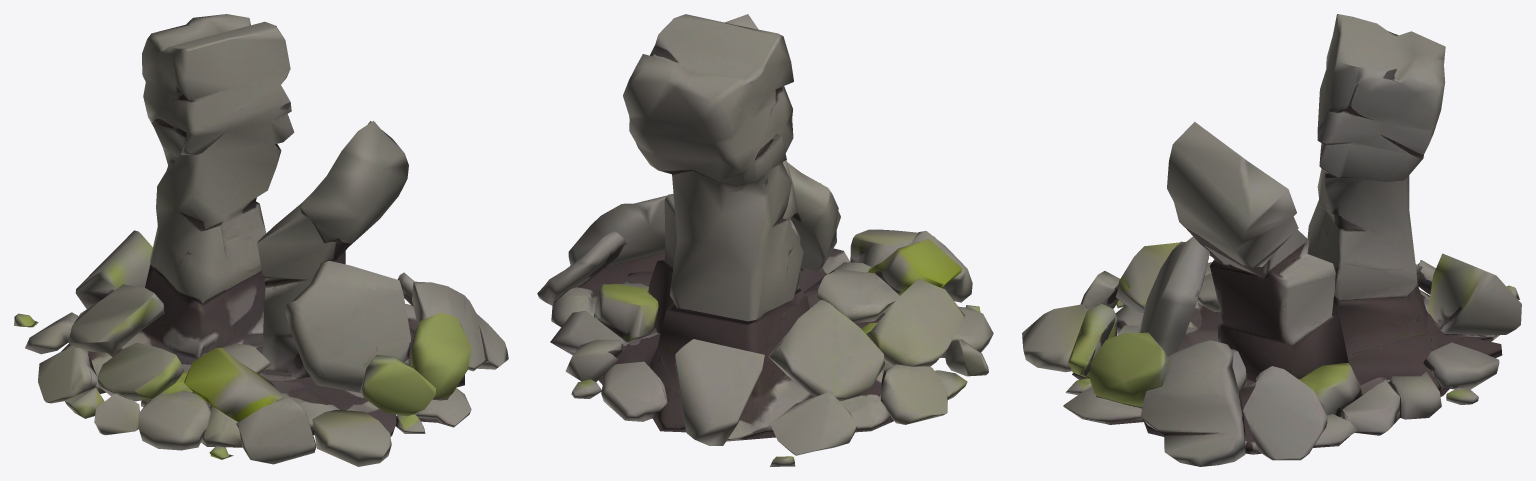
File: pillarBroken.glb
The picture shows the model from 3 angles, left to right: view 1: azimuth 30°, elevation 25°; view 2: azimuth 150°, elevation 25°; view 3: azimuth 270°, elevation 25°; orthographic projection. The views are drawn at different scales.
Bounding box in the file's own units: 0.918 × 0.6982 × 0.957.
Materials: 1 (1 with a texture image).
